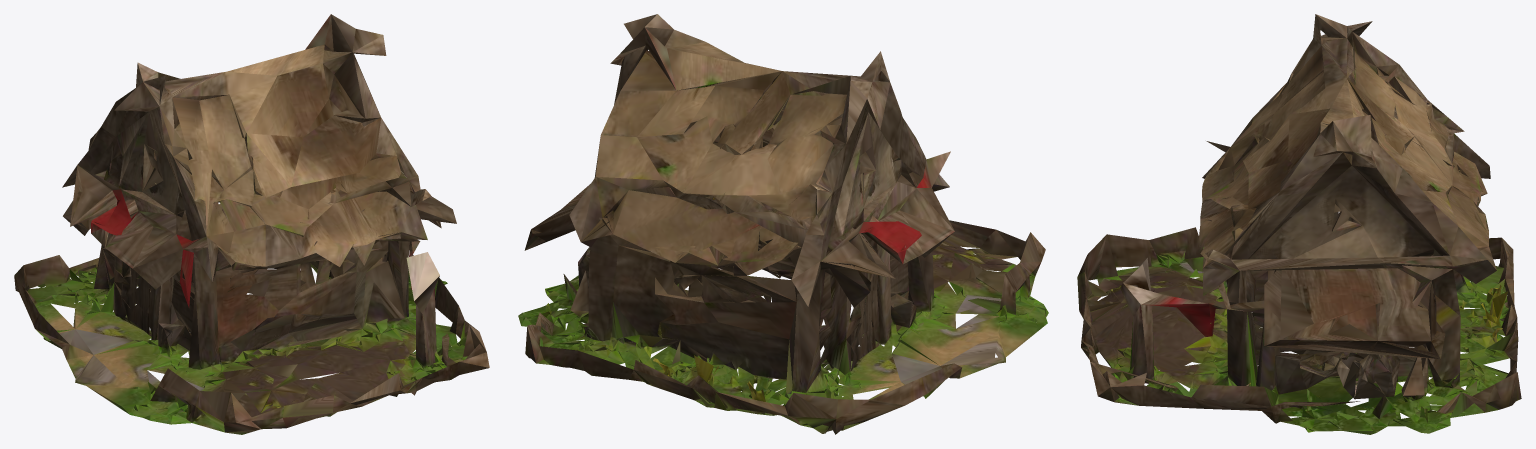
Rendered from farm_thorn.glb.
3 views of the same model, side by side, from view 1: azimuth 30°, elevation 25°; view 2: azimuth 150°, elevation 25°; view 3: azimuth 270°, elevation 25° (orthographic). The views are drawn at different scales.
Visible parts, largest first — view 1: farm_thorn; view 2: farm_thorn; view 3: farm_thorn.
Boxes of the visible parts, x1,y1,x2,y2 form: farm_thorn: (14, 14, 489, 434); farm_thorn: (518, 14, 1048, 434); farm_thorn: (1077, 14, 1521, 434).
Size of the model in its own units: 1.4 by 0.9506 by 1.36.
Materials: 1 (1 with a texture image).
